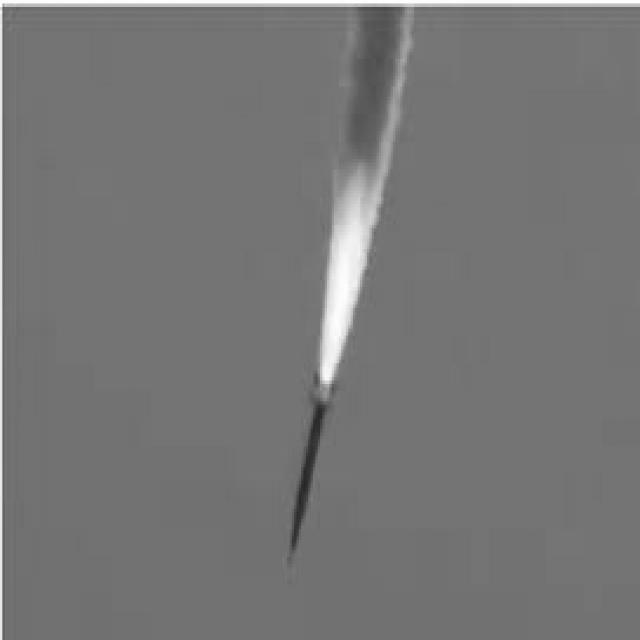Missile: (282, 377, 338, 557)
